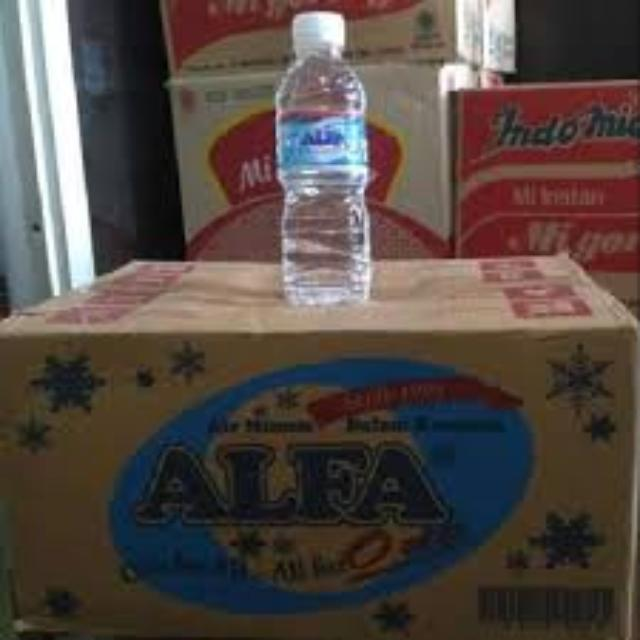trash: (268, 6, 376, 316)
